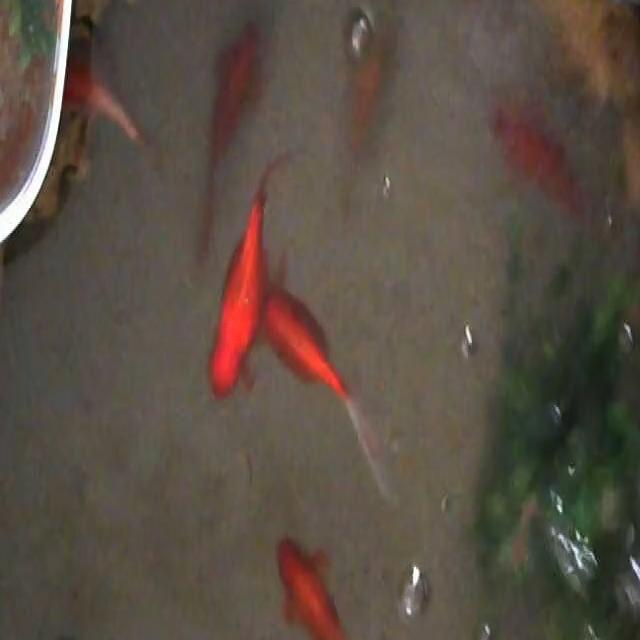fish: (213, 159, 399, 499), (208, 157, 294, 396), (197, 18, 264, 260), (491, 99, 589, 223), (272, 528, 372, 640), (341, 4, 397, 163), (64, 53, 151, 154)
